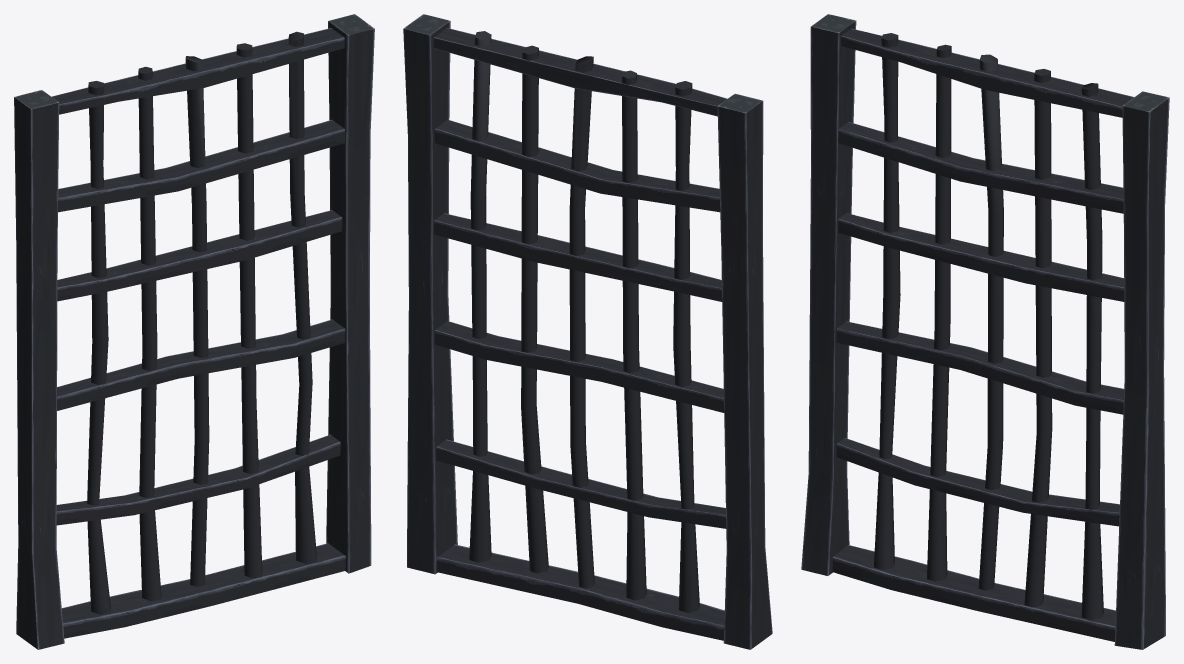
File: SM_PROP_bars_wall_dungeon_01.fbx
3 views of the same model, side by side, from view 1: azimuth 30°, elevation 25°; view 2: azimuth 150°, elevation 25°; view 3: azimuth 330°, elevation 25° (orthographic).
Parts seen in each view (by area): view 1: SM_PROP_bars_wall_dungeon_01; view 2: SM_PROP_bars_wall_dungeon_01; view 3: SM_PROP_bars_wall_dungeon_01.
Boxes of the visible parts, x1=… form: SM_PROP_bars_wall_dungeon_01: x1=14, y1=14, x2=374, y2=649; SM_PROP_bars_wall_dungeon_01: x1=403, y1=14, x2=772, y2=649; SM_PROP_bars_wall_dungeon_01: x1=801, y1=14, x2=1169, y2=649.
Size of the model in its own units: 201 by 303 by 25.9.
